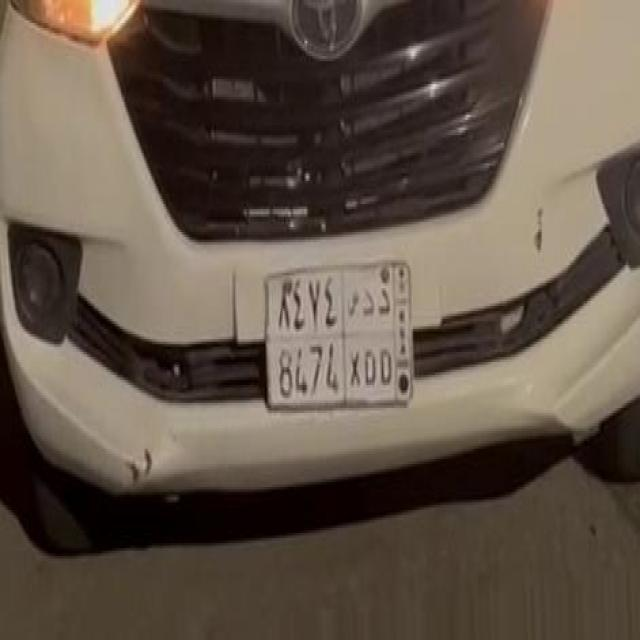Car-plate: (249, 241, 439, 450)
